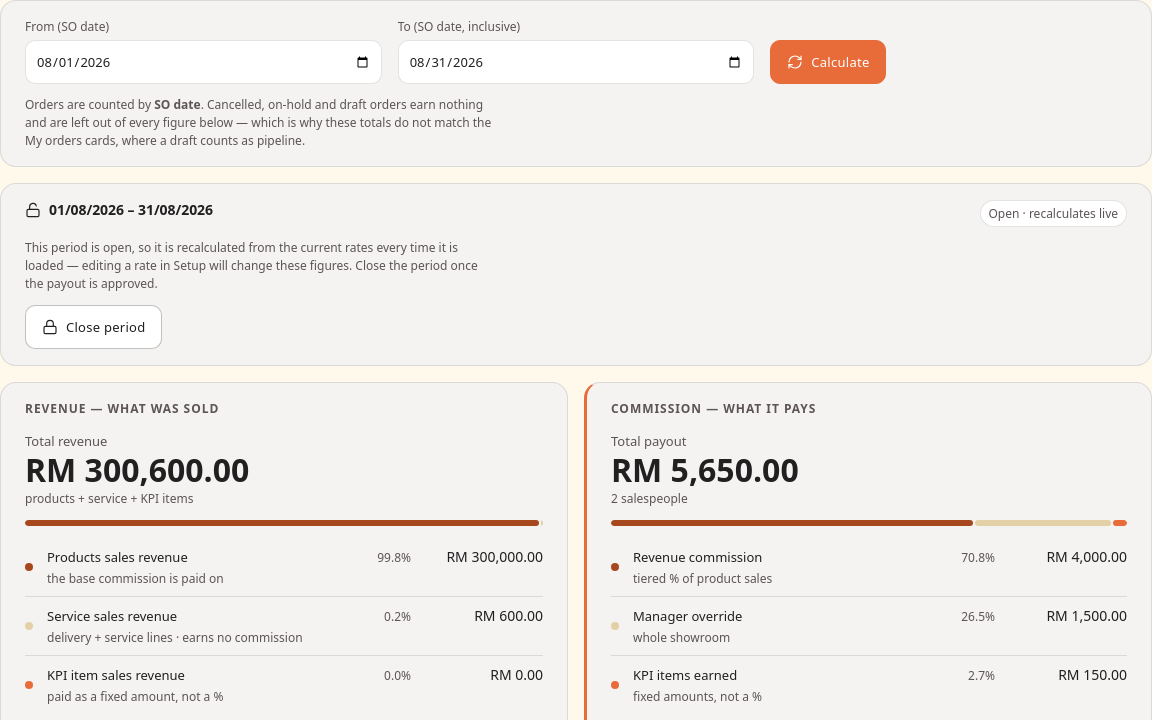
Test: CommissionTab › refuses to calculate an inverted date range
This screenshot has width=1152, height=720.
Step 1. Type "2026-12-31" into the date field labelled "From (SO date)" → (203, 62), box x1=25 y1=40 x2=382 y2=84
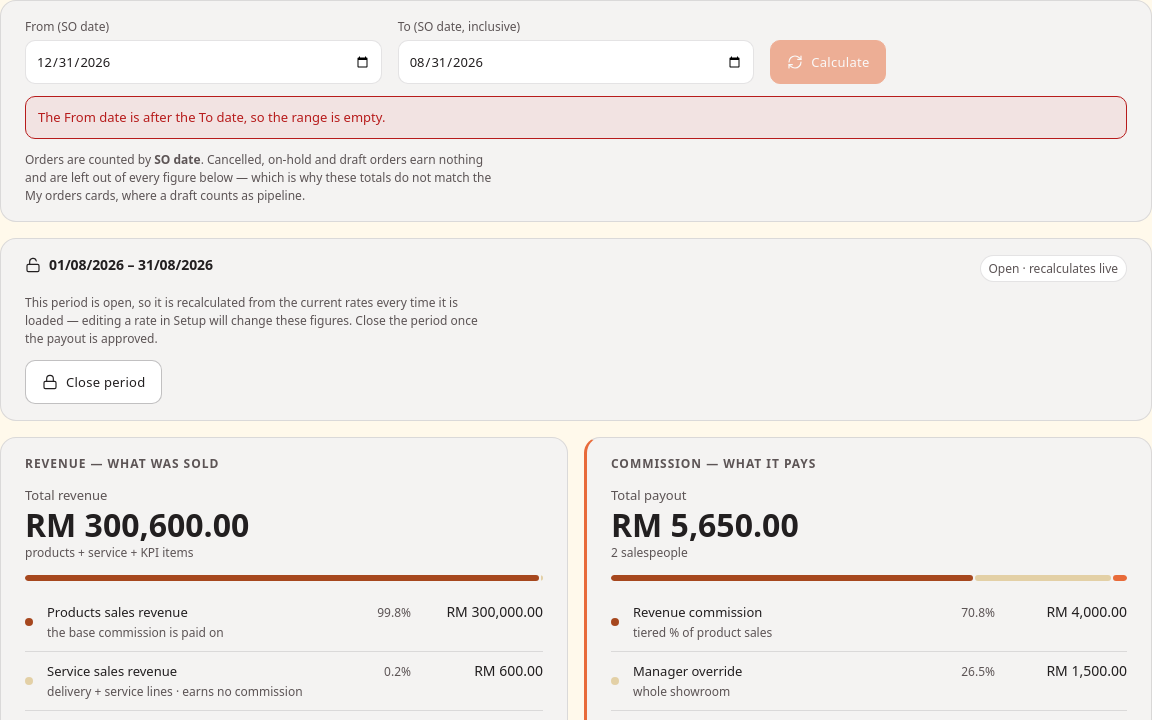
Check: the text "The From date is after the To date, so the range is empty." is shown, box x1=25 y1=96 x2=1127 y2=139
Check: the button "Calculate" is disabled, box x1=770 y1=40 x2=886 y2=84
